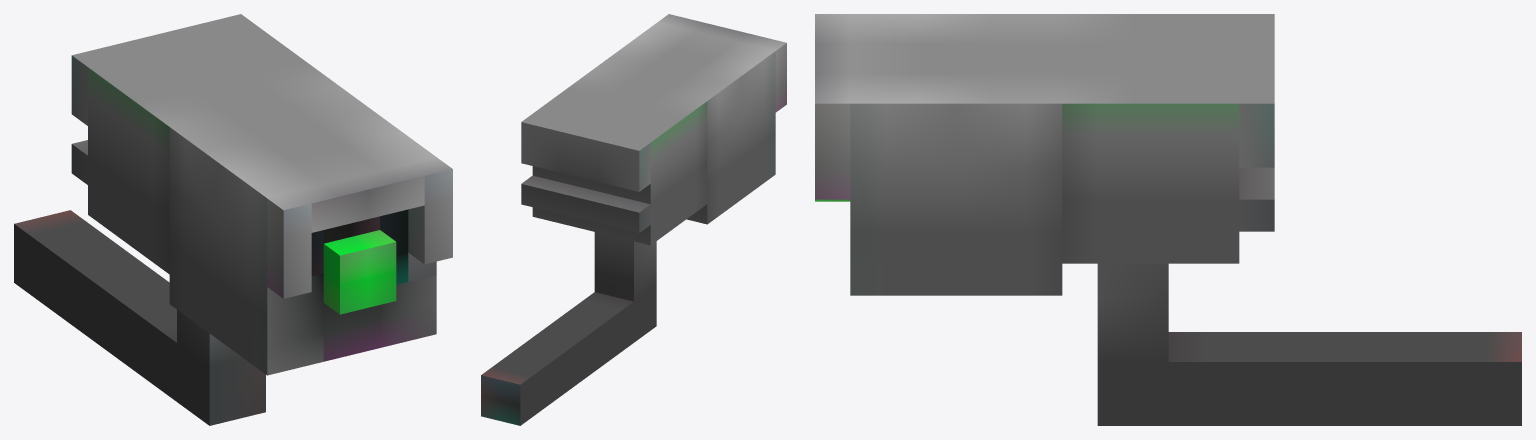
The model's file is Camera_A_00.fbx.
3 renders of one model, left to right at view 1: azimuth 30°, elevation 25°; view 2: azimuth 150°, elevation 25°; view 3: azimuth 270°, elevation 25°, orthographic. The views are drawn at different scales.
Visible parts, largest first — view 1: Camera_A_00; view 2: Camera_A_00; view 3: Camera_A_00.
Part boxes in pixels (x1,y1,x2,y2): Camera_A_00: [14, 14, 452, 425]; Camera_A_00: [481, 14, 786, 425]; Camera_A_00: [815, 14, 1521, 425].
Bounding box in the file's own units: 30 × 55 × 100.
